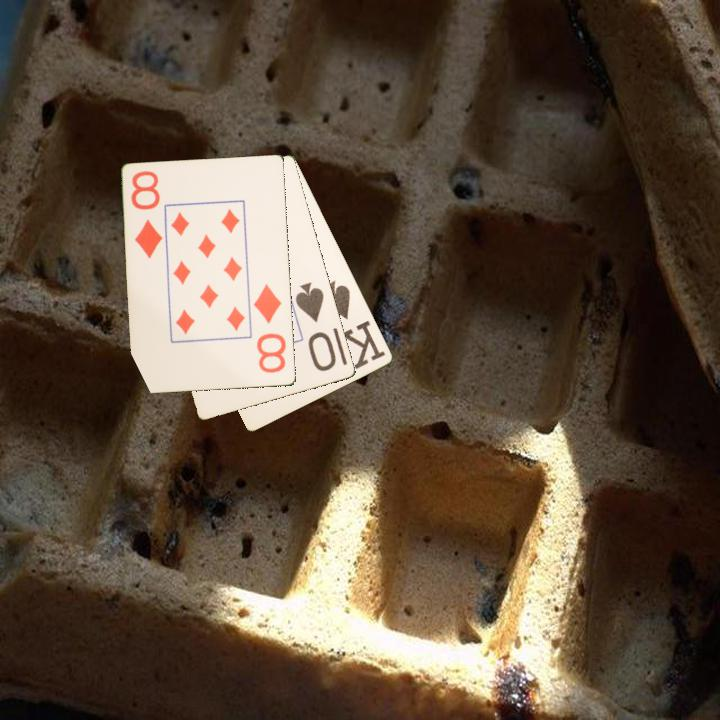10s: (292, 279, 339, 374)
8d: (250, 281, 289, 376), (128, 168, 166, 262)
Ks: (319, 276, 389, 372)
